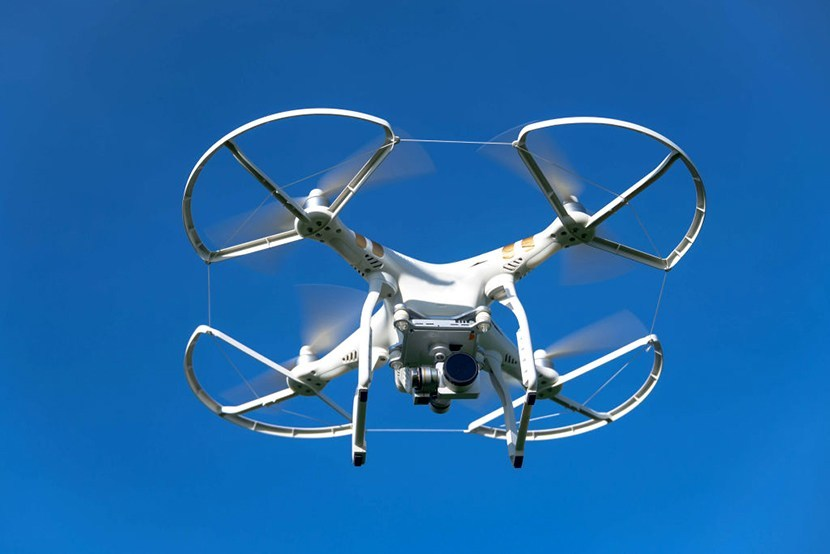drone: (170, 102, 718, 472)
